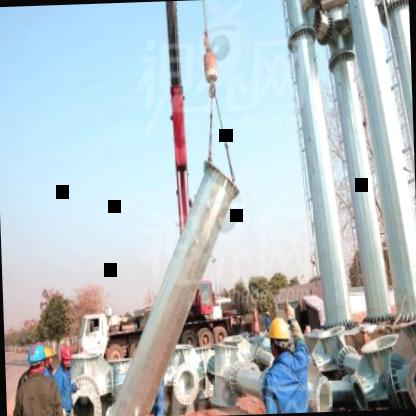helmet: (266, 315, 292, 358), (28, 343, 46, 372), (58, 341, 74, 371), (44, 346, 54, 367)
